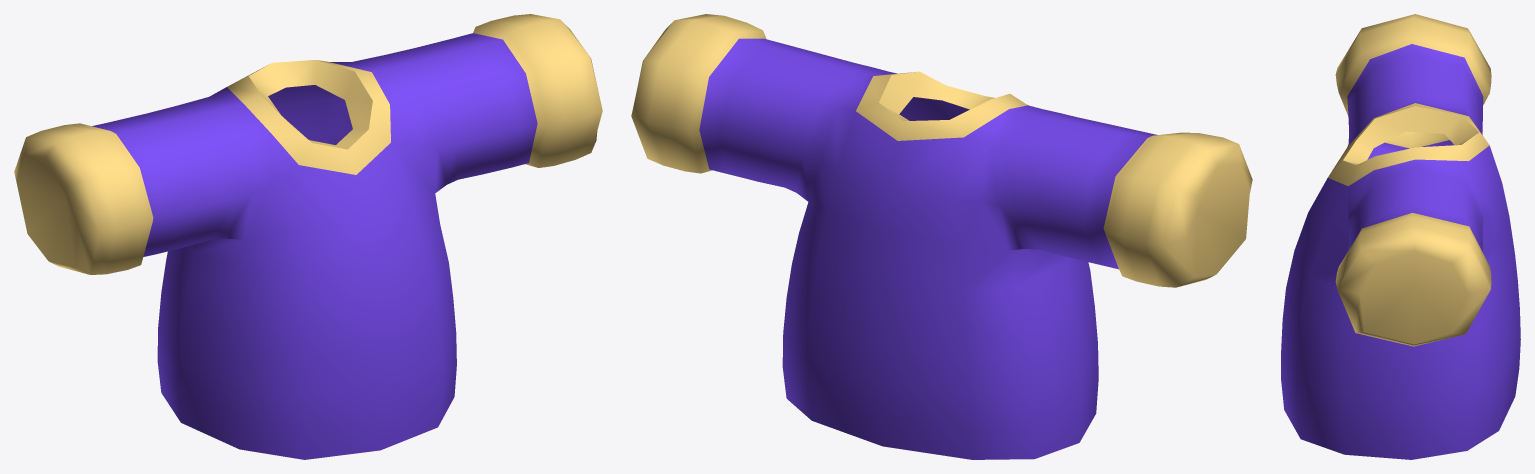
Rendered from Top_12.fbx.
3 renders of one model, left to right at view 1: azimuth 30°, elevation 25°; view 2: azimuth 150°, elevation 25°; view 3: azimuth 270°, elevation 25°, orthographic. The views are drawn at different scales.
Visible parts, largest first — view 1: Top_12; view 2: Top_12; view 3: Top_12.
Boxes of the visible parts, <box> form: Top_12: <box>14,14,602,459</box>; Top_12: <box>631,14,1252,459</box>; Top_12: <box>1281,14,1520,459</box>.
Size of the model in its own units: 83.07 by 48.32 by 36.49.
